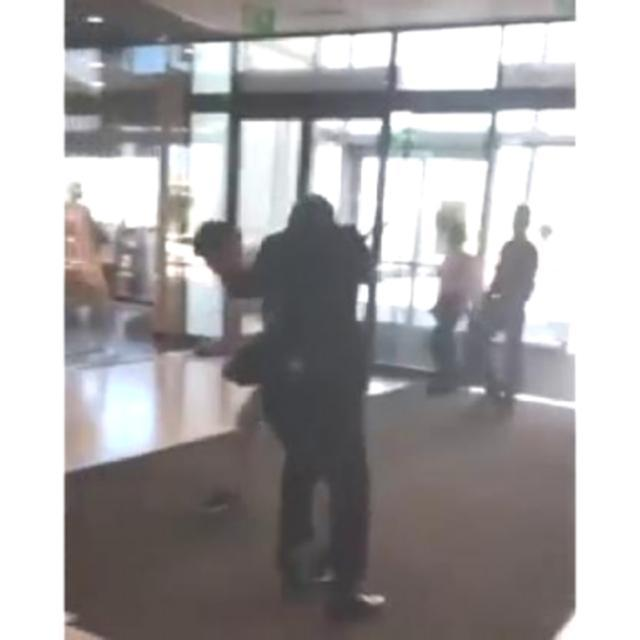fight: (194, 192, 386, 638)
non-fight: (482, 194, 536, 406), (426, 220, 479, 394)
